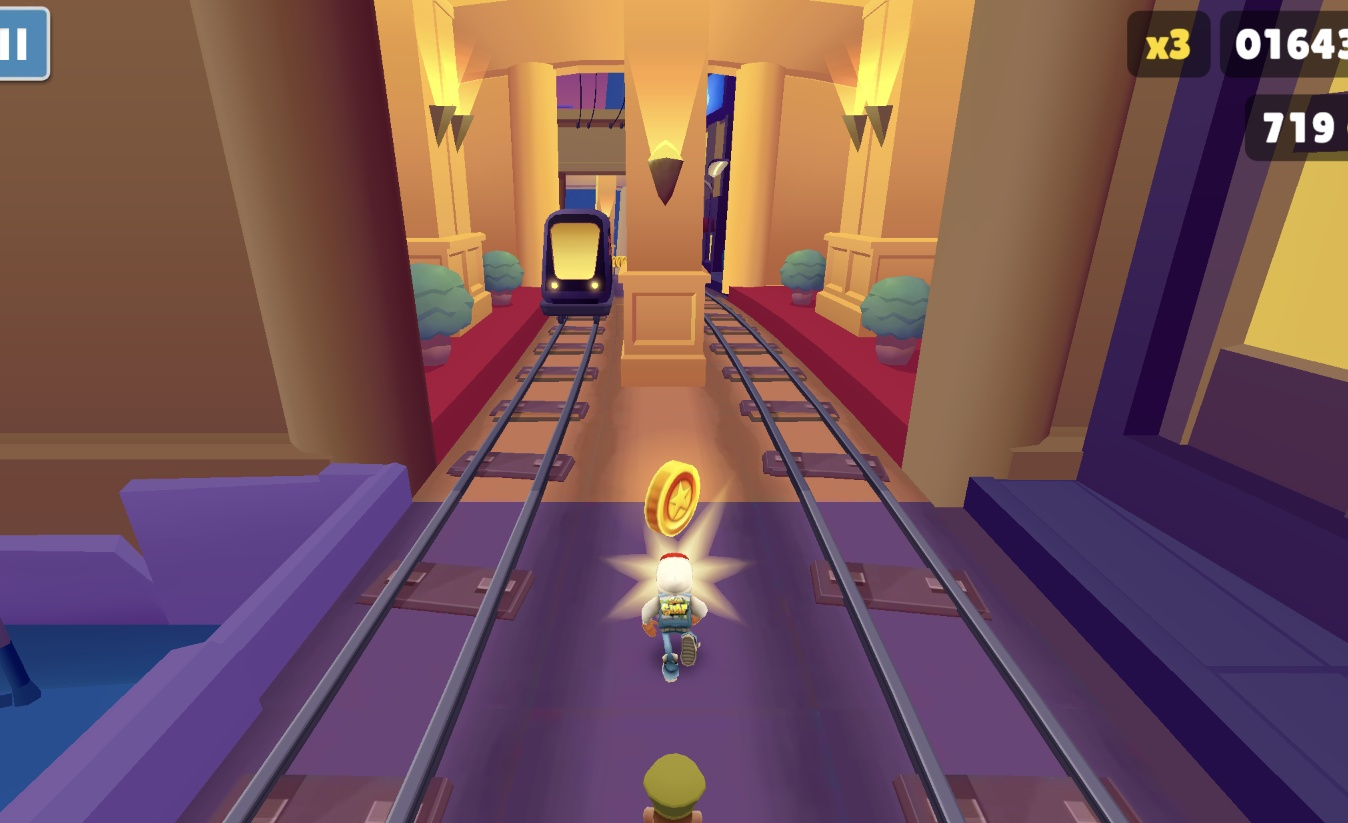pillar: (607, 0, 738, 470)
train: (532, 210, 617, 357)
